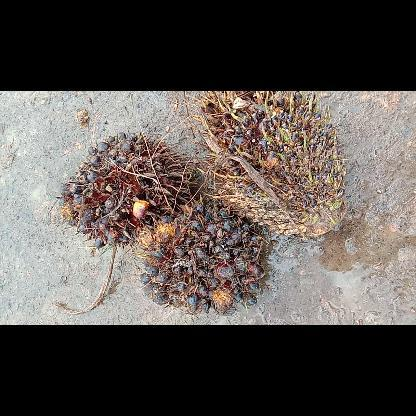TBS abnormal: (189, 91, 346, 237), (59, 131, 196, 249), (136, 195, 264, 314)
